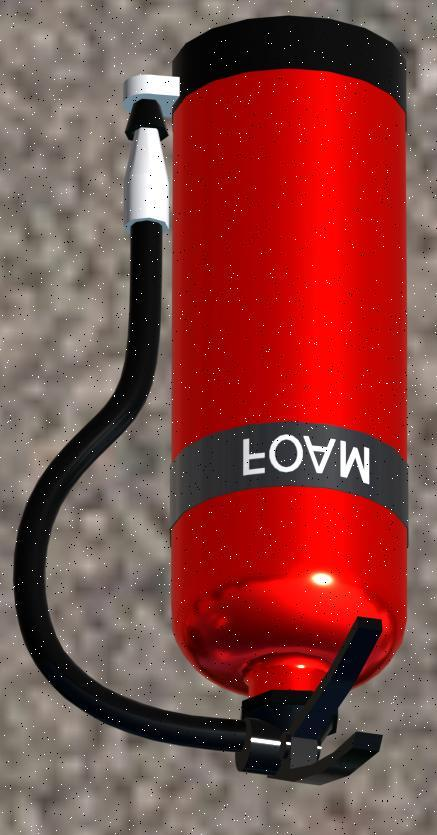Fire Extinguisher: (10, 8, 437, 792)
